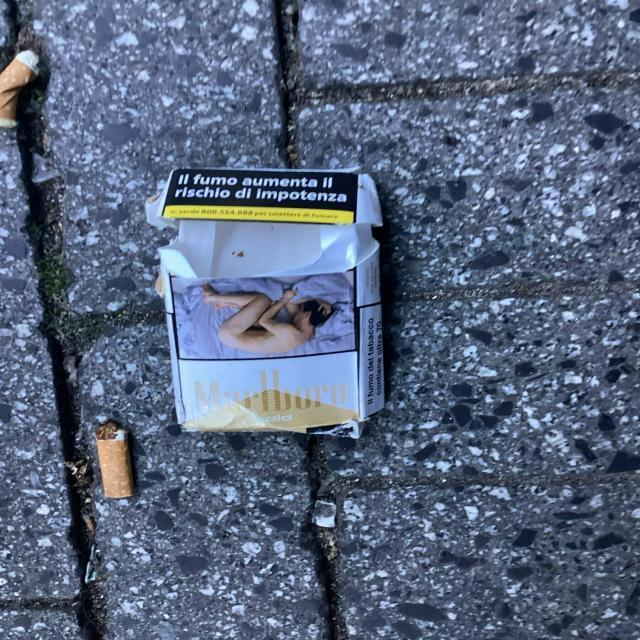Paper: (140, 162, 390, 442)
